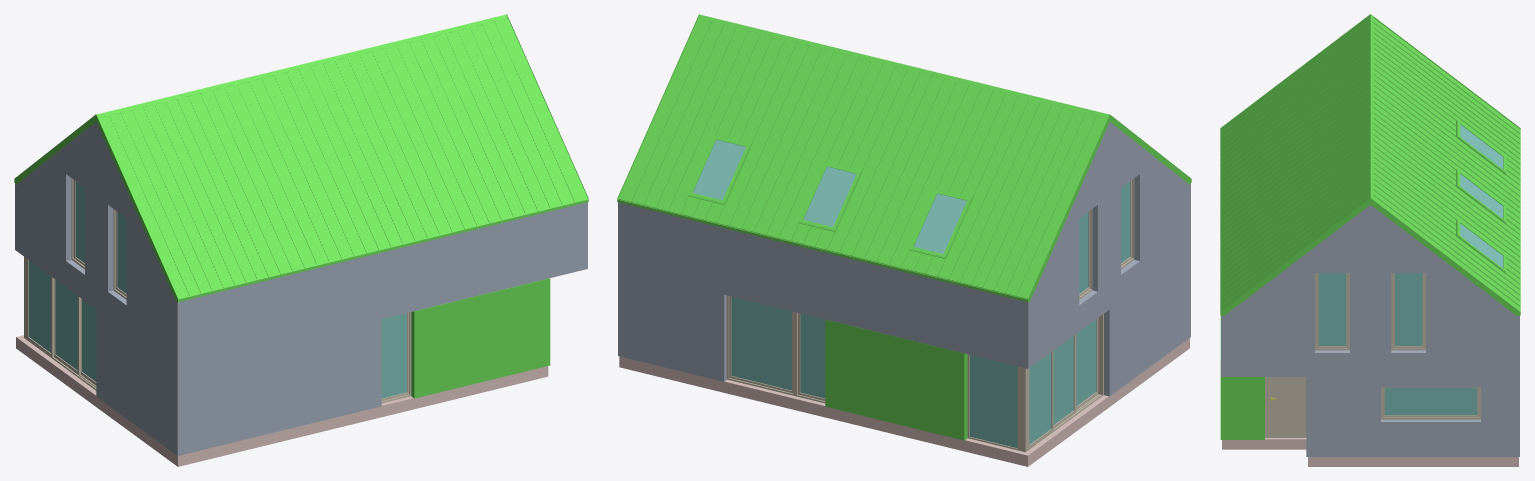
Rendered from House_3.FBX.
3 renders of one model, left to right at view 1: azimuth 30°, elevation 25°; view 2: azimuth 150°, elevation 25°; view 3: azimuth 270°, elevation 25°, orthographic. The views are drawn at different scales.
Parts seen in each view (by area): view 1: H3-house_LOD0; view 2: H3-house_LOD0; view 3: H3-house_LOD0.
Part boxes in pixels (x1=…): H3-house_LOD0: x1=14, y1=14, x2=588, y2=466; H3-house_LOD0: x1=617, y1=14, x2=1191, y2=466; H3-house_LOD0: x1=1220, y1=14, x2=1520, y2=466.
Size of what is drawn, in the model's own units: 1135 by 776 by 784.
